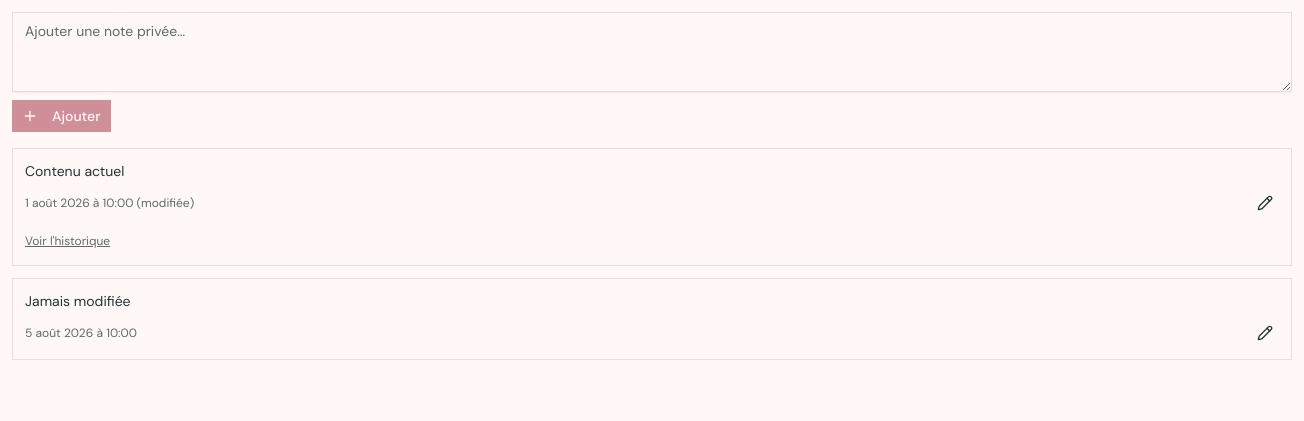
Test: NotesEditor › charge et affiche les versions précédentes au clic
Click the button "Voir l'historique": click(68, 241) [25,233,110,249]
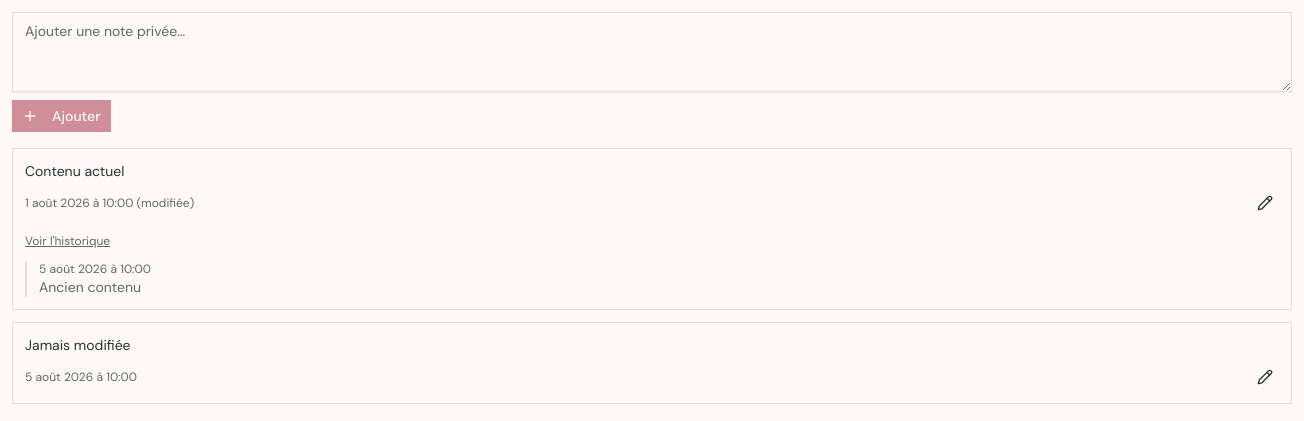
Result: the text "Ancien contenu" is shown at [39,278,141,296]
